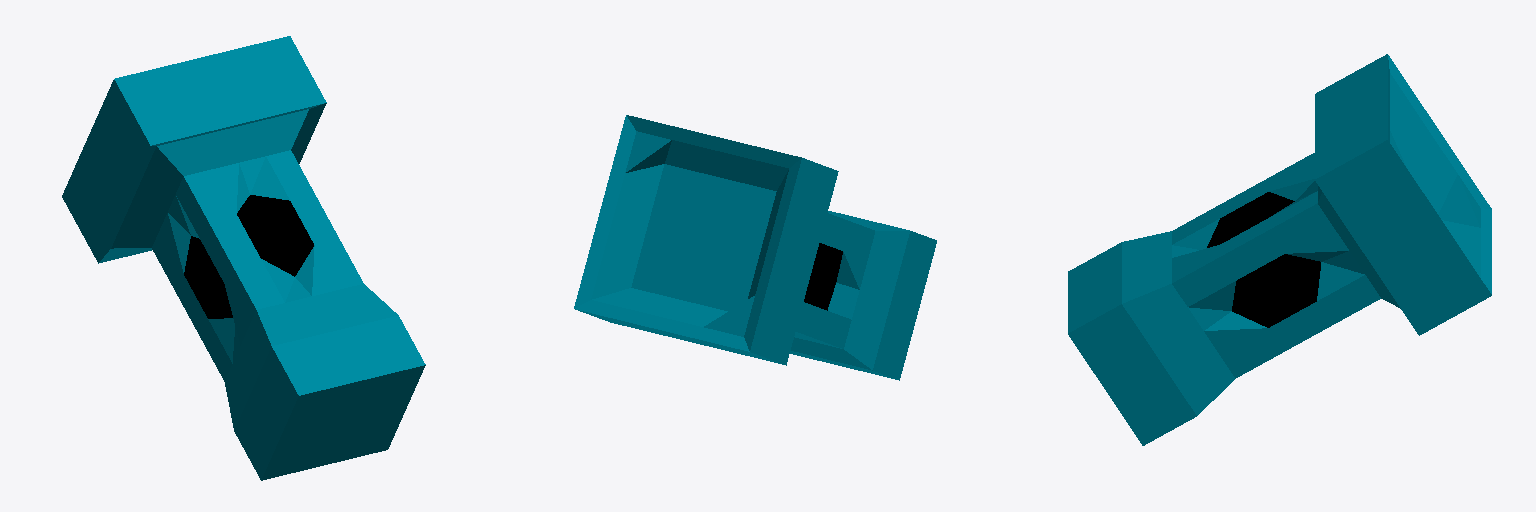
The model's file is wallTower1d.obj.
The picture shows the model from 3 angles: view 1: azimuth 30°, elevation 25°; view 2: azimuth 150°, elevation 25°; view 3: azimuth 270°, elevation 25°; orthographic projection.
Visible parts, largest first — view 1: Cube; view 2: Cube; view 3: Cube.
Boxes of the visible parts, box(x1,y1,x2,y2) form: Cube: box(62, 36, 425, 480); Cube: box(574, 115, 936, 380); Cube: box(1068, 54, 1491, 445).
Bounding box in the file's own units: 7.3 × 12.61 × 15.24.